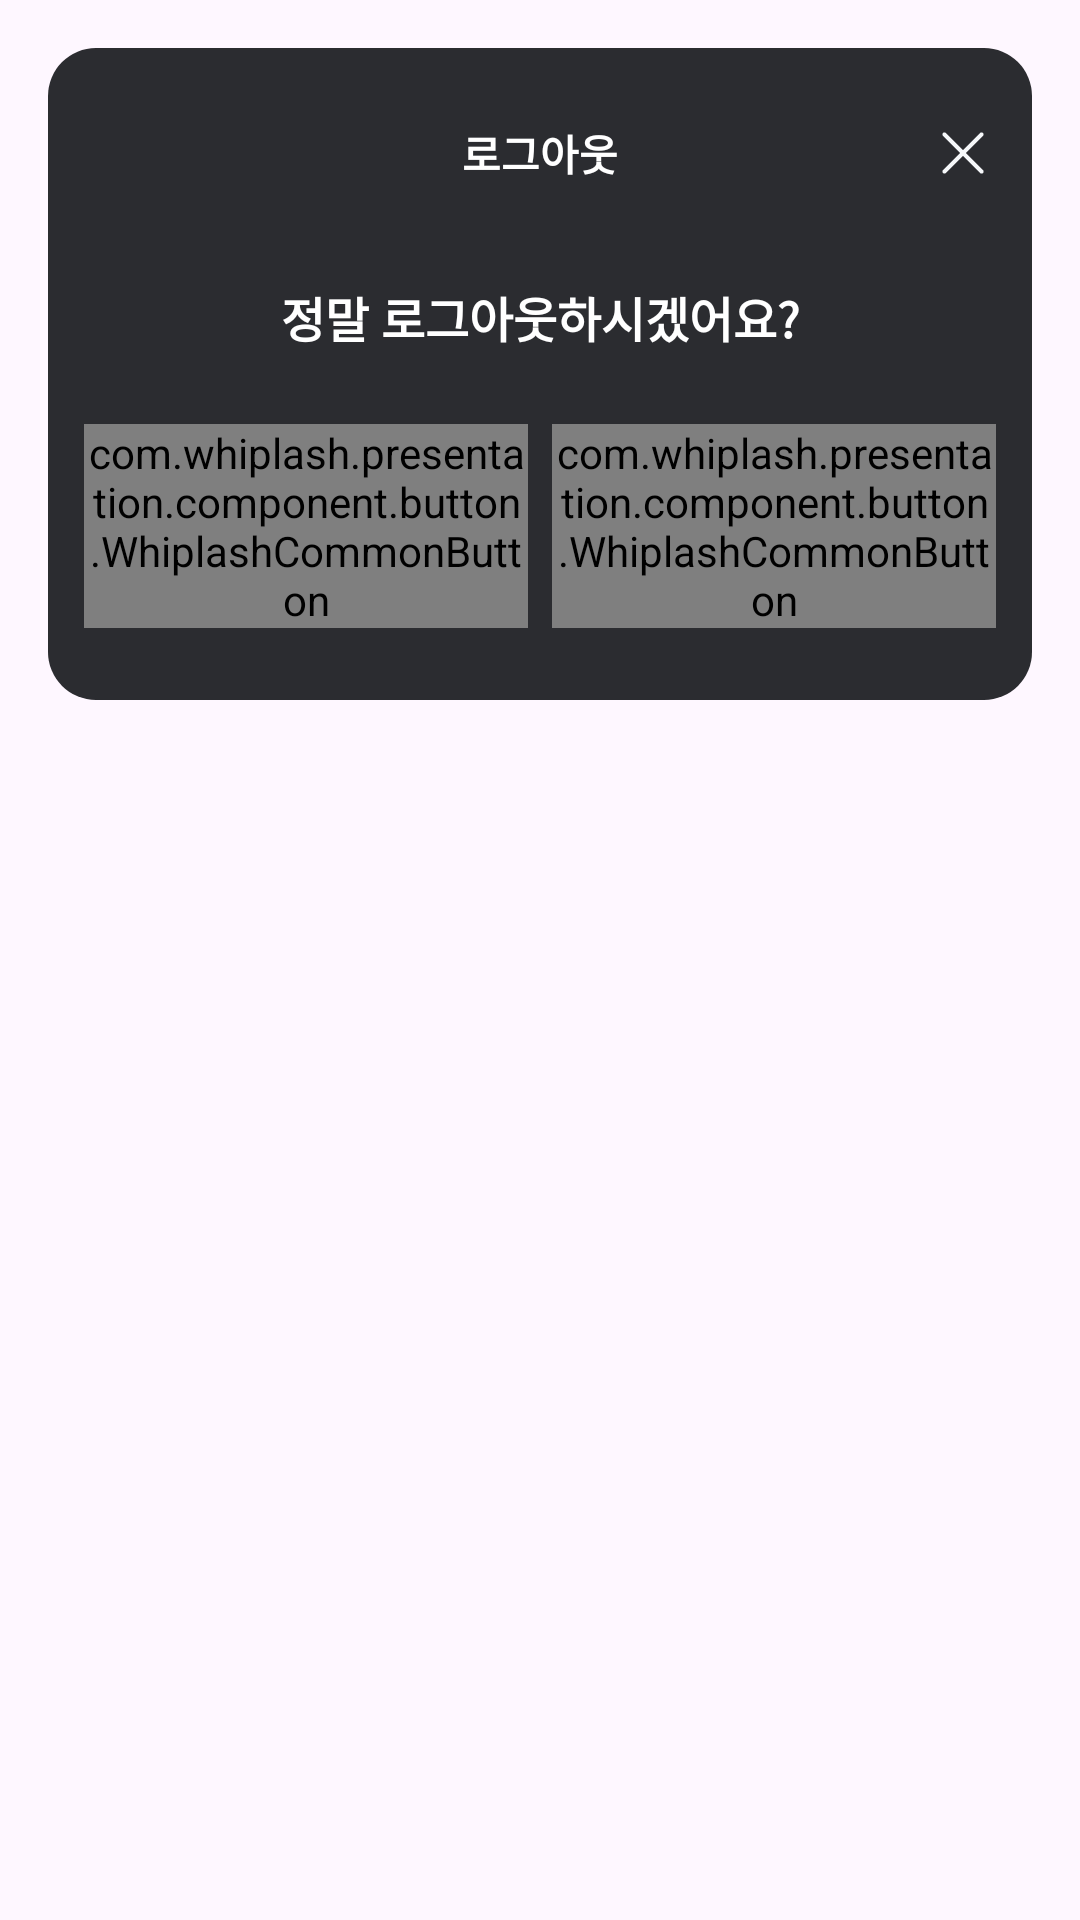

Named icons in this screenshot (1080×1920) and their centers, (x=x, y=y):
dismiss: (x=963, y=153)
